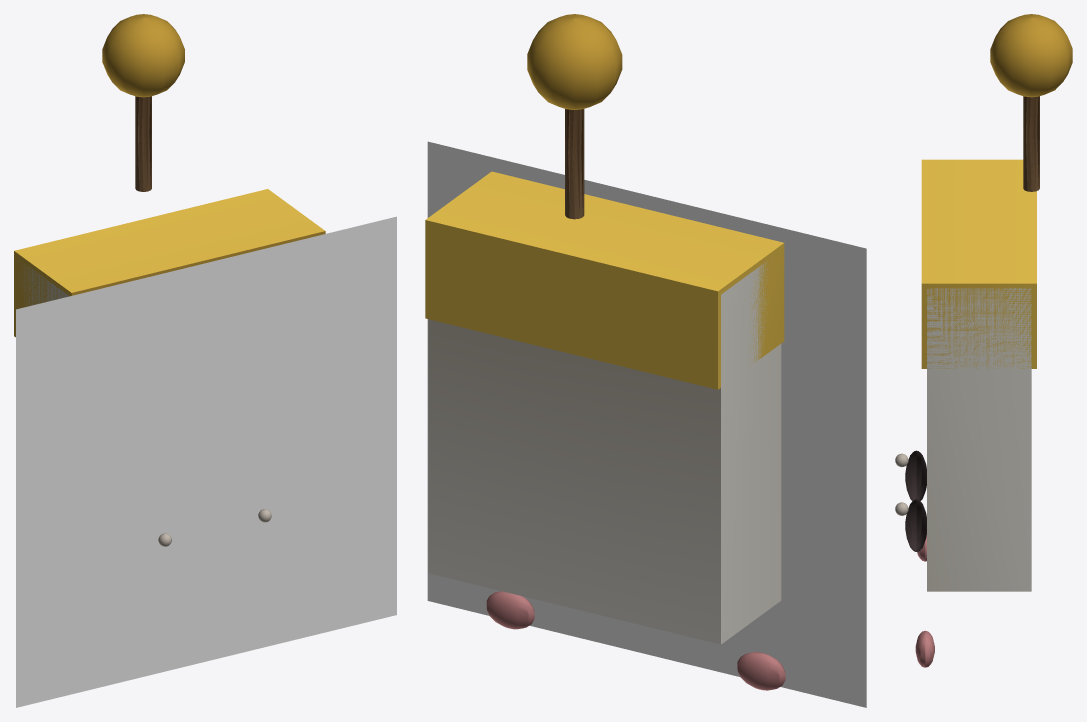
3 views of the same model, side by side, from view 1: azimuth 30°, elevation 25°; view 2: azimuth 150°, elevation 25°; view 3: azimuth 270°, elevation 25° (orthographic). The views are drawn at different scales.
Visible parts, largest first — view 1: pet_p22d07222; view 2: pet_p22d07222; view 3: pet_p22d07222.
Boxes of the visible parts, bbox=[...] form: pet_p22d07222: bbox=[14, 14, 396, 707]; pet_p22d07222: bbox=[425, 14, 866, 707]; pet_p22d07222: bbox=[895, 14, 1072, 667].
Bounding box in the file's own units: 0.42 × 0.63 × 0.1698.
